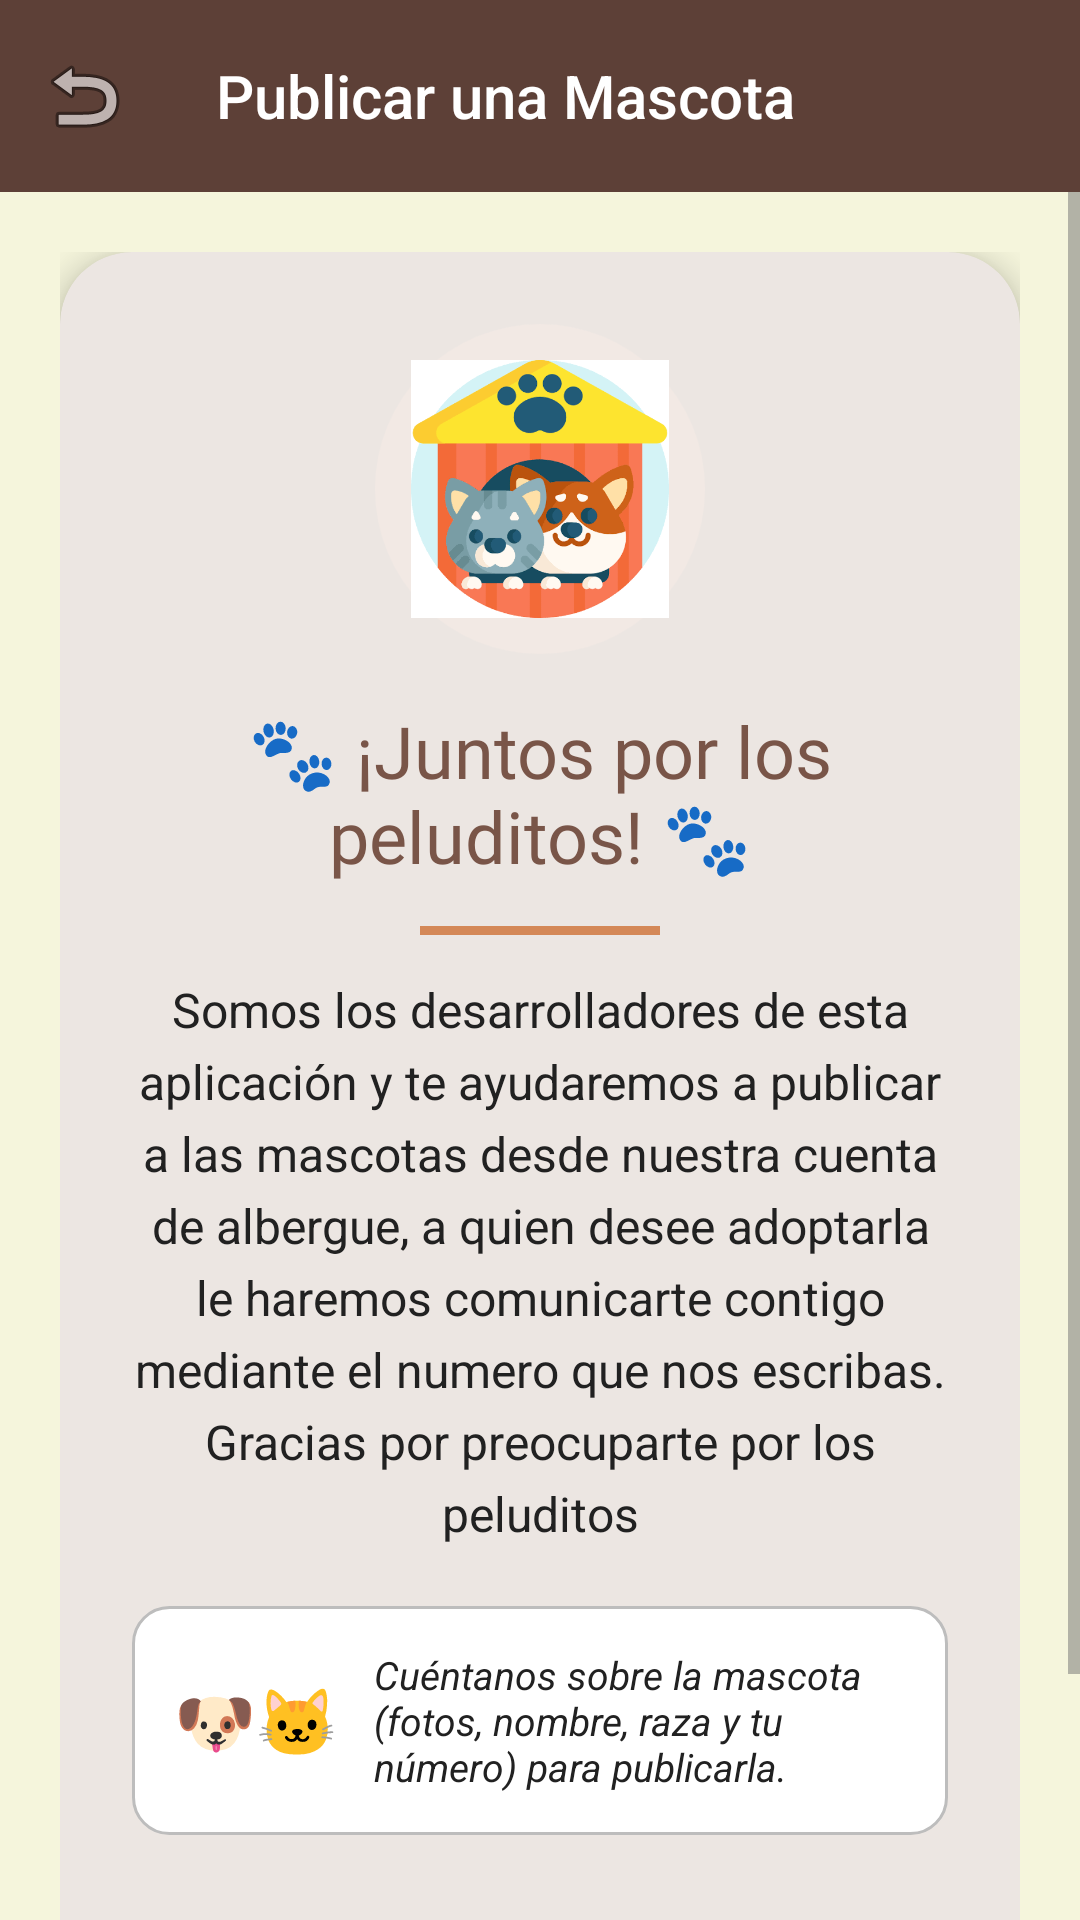

Icon bounding boxes for this 1080 x 1920 phone screenshot, format (x1, y1, x2, y2):
Ilustración Patitas al Rescate: (411, 360, 669, 618)
